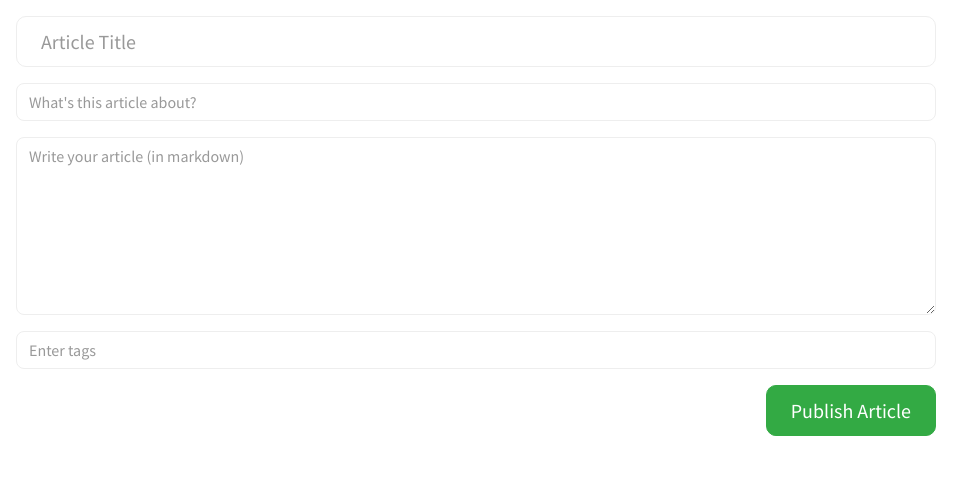
Editor — create mode › removes a tag when the X icon is clicked
Type "angular" into the field with placeholder "Enter tags" at (476, 350), box [16,331,936,369]
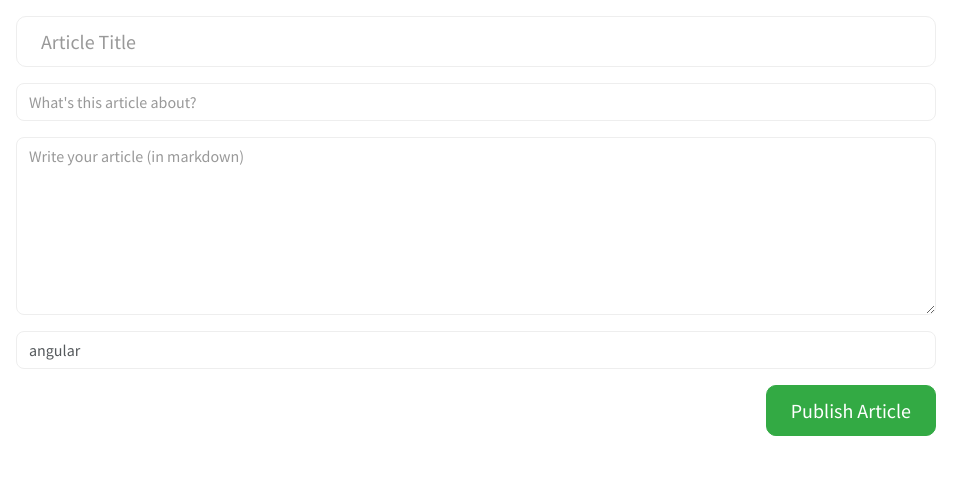
Press Enter in the field with placeholder "Enter tags", box [16,331,936,369]
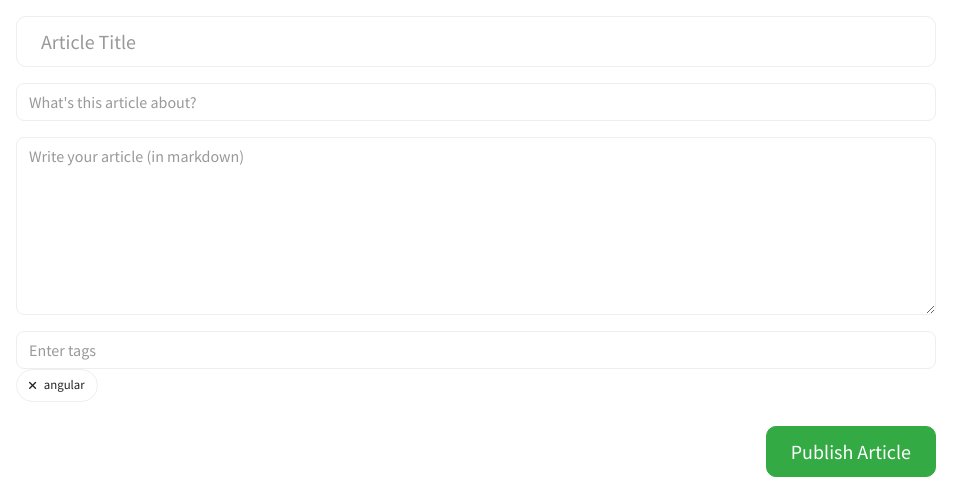
expect the text "angular" is shown: met, box [16,369,98,402]
Click the icon at (33, 386), box [29,380,36,392]
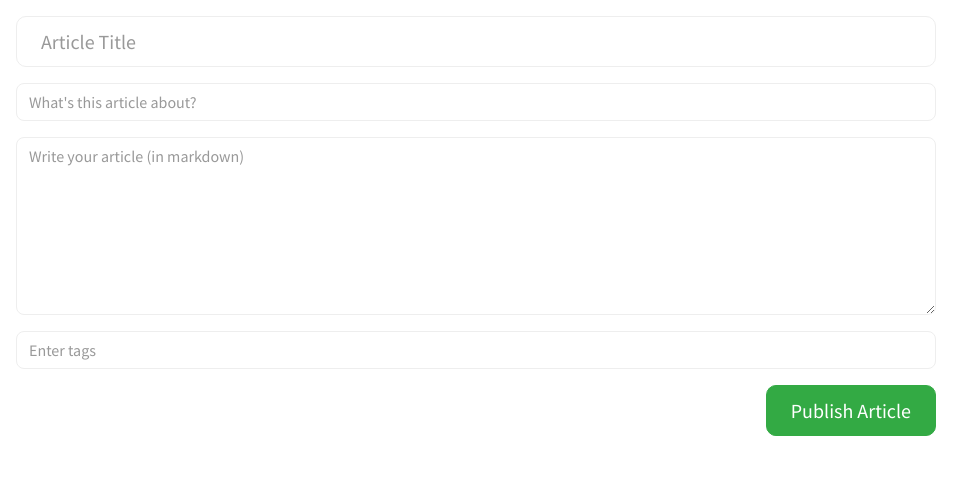
expect the text "angular" is gone: met
